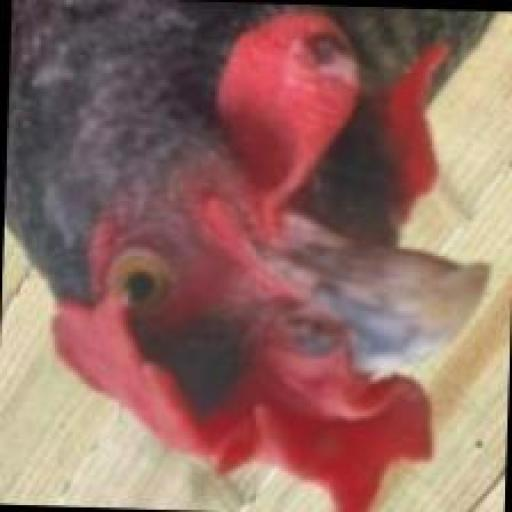disease: (241, 0, 457, 115)
